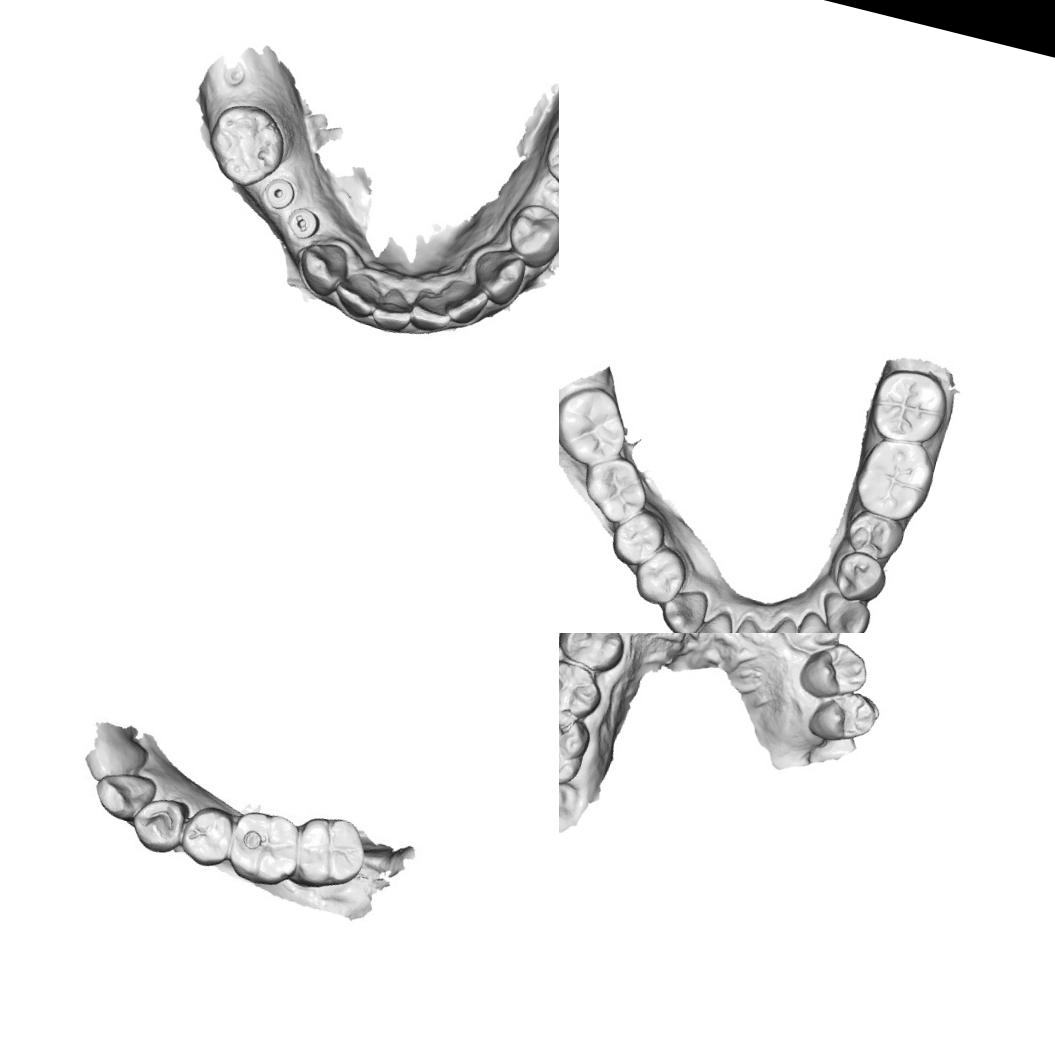canine: (464, 241, 532, 310), (87, 764, 162, 826), (288, 234, 354, 303), (653, 580, 711, 633), (812, 588, 874, 633), (783, 633, 849, 660)
implant: (258, 172, 298, 212)
implant_minus: (282, 202, 324, 243)
incisor: (328, 264, 384, 322), (404, 283, 457, 337), (441, 276, 492, 328), (368, 283, 416, 336), (685, 603, 739, 633), (789, 607, 843, 633), (756, 611, 810, 633), (724, 613, 774, 633)
molar: (197, 94, 296, 194), (846, 431, 940, 526), (862, 360, 954, 451), (559, 376, 637, 473), (574, 448, 656, 530), (224, 808, 308, 888), (288, 810, 368, 890), (559, 696, 596, 787), (535, 100, 559, 206)
premolar: (802, 681, 882, 753), (798, 635, 876, 706), (626, 538, 693, 610), (126, 788, 194, 858), (605, 502, 672, 572), (176, 801, 240, 872), (499, 198, 559, 273), (840, 507, 908, 565), (829, 547, 892, 608), (559, 651, 609, 719), (559, 633, 632, 677)
